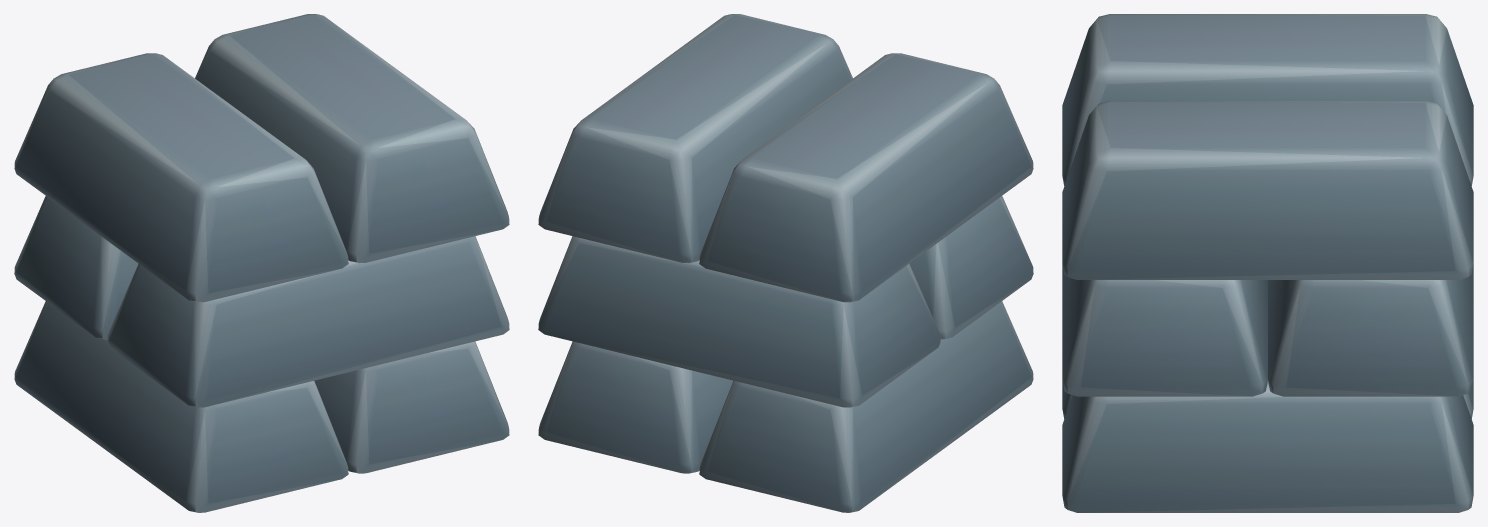
Rendered from iron_bars_stack_small.glb.
The picture shows the model from 3 angles, left to right: view 1: azimuth 30°, elevation 25°; view 2: azimuth 150°, elevation 25°; view 3: azimuth 270°, elevation 25°; orthographic projection. The views are drawn at different scales.
Parts seen in each view (by area): view 1: Iron_Bars_Stack_Small; view 2: Iron_Bars_Stack_Small; view 3: Iron_Bars_Stack_Small.
Boxes of the visible parts, x1,y1,x2,y2 form: Iron_Bars_Stack_Small: (14, 14, 509, 512); Iron_Bars_Stack_Small: (538, 14, 1033, 512); Iron_Bars_Stack_Small: (1062, 14, 1473, 512).
Size of the model in its own units: 0.8 by 0.75 by 0.8.
Materials: 1 (1 with a texture image).
